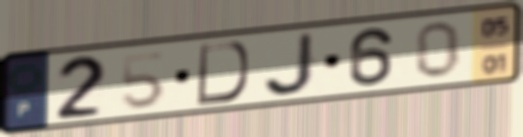0: (412, 19, 466, 82)
2: (50, 52, 112, 125)
5: (117, 49, 168, 111)
6: (347, 25, 398, 89)
D: (193, 39, 252, 108)
J: (259, 30, 321, 100)
